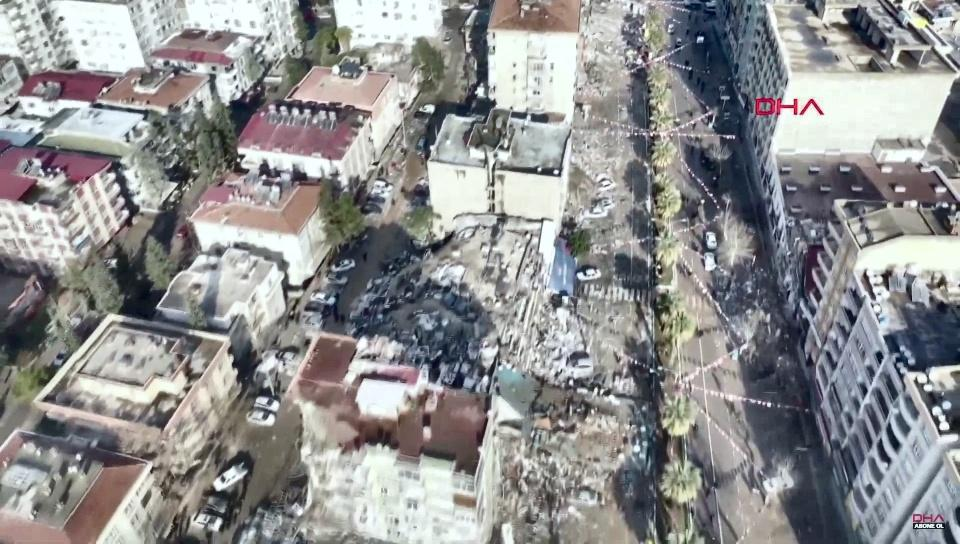kapali: (547, 280, 651, 543), (589, 0, 646, 110)
